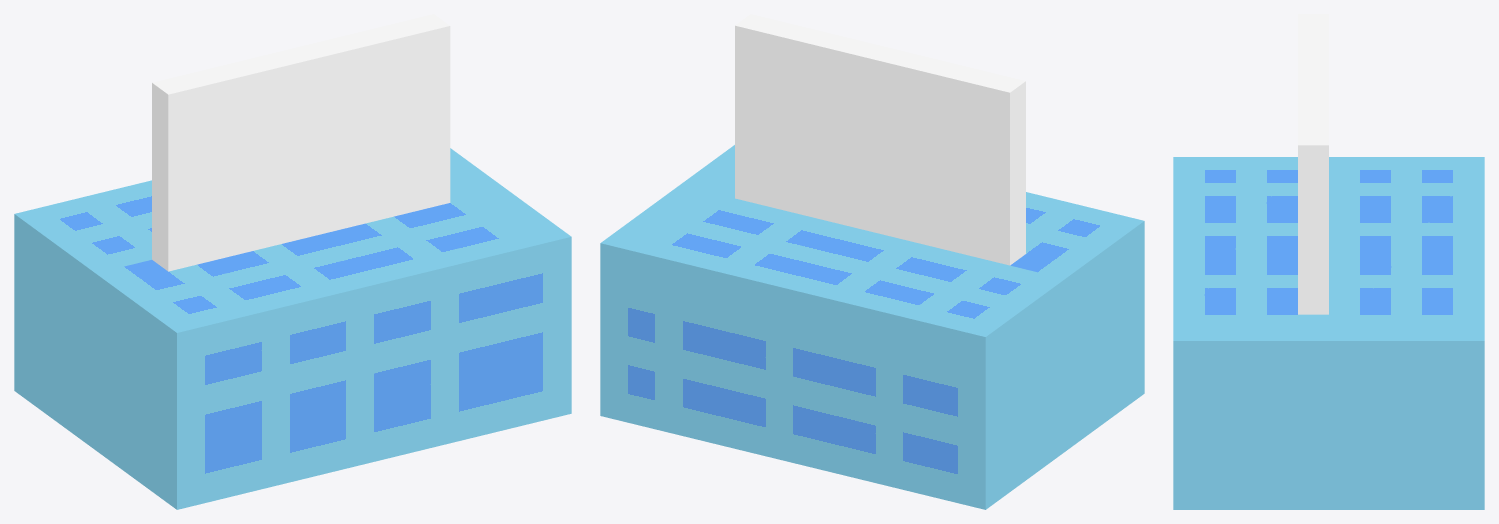
Rendered from 纸巾盒.gltf.
The picture shows the model from 3 angles, left to right: view 1: azimuth 30°, elevation 25°; view 2: azimuth 150°, elevation 25°; view 3: azimuth 270°, elevation 25°; orthographic projection. The views are drawn at different scales.
Visible parts, largest first — view 1: Object; view 2: Object; view 3: Object.
Part boxes in pixels (bbox=[...]): Object: bbox=[14, 14, 571, 509]; Object: bbox=[600, 14, 1144, 509]; Object: bbox=[1173, 14, 1484, 509].
Bounding box in the file's own units: 14 × 12 × 10.
1 material, 1 textured.
